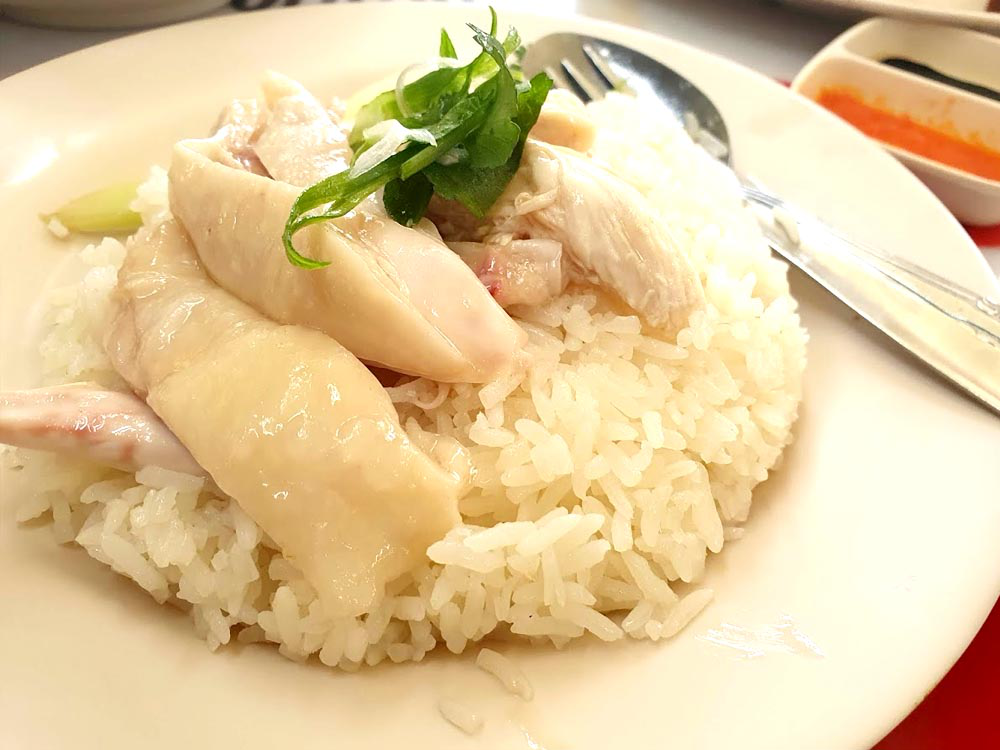Steamed Chicken Rice: (65, 47, 762, 630)
